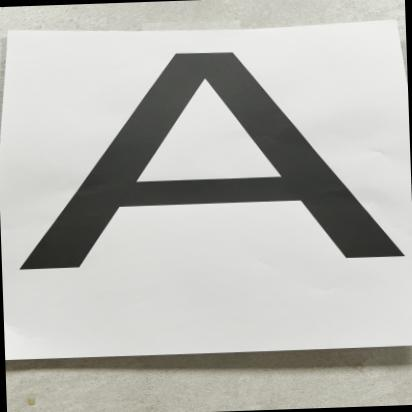seat: (21, 29, 412, 345)
